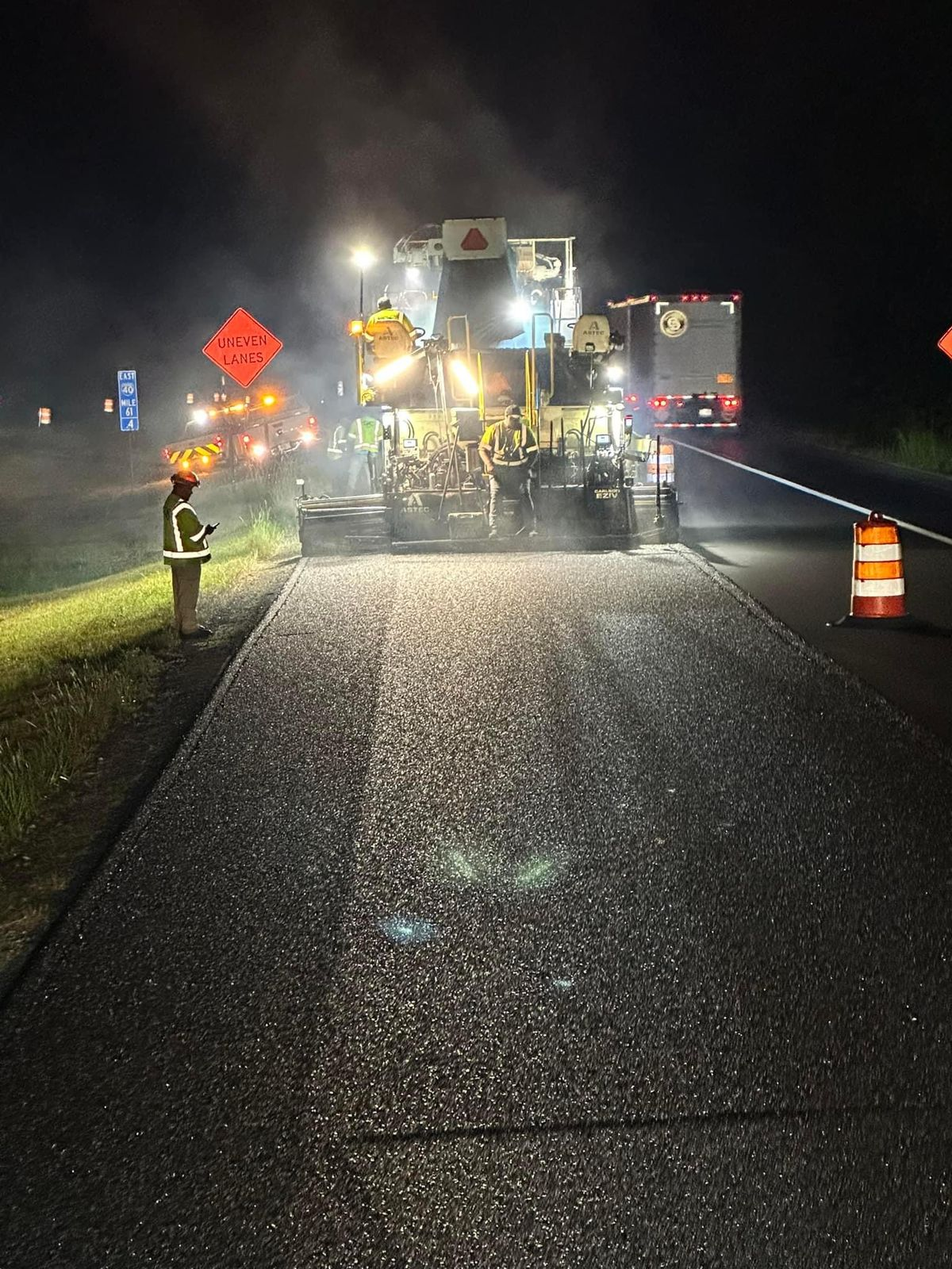person: (118, 433, 261, 645), (473, 387, 567, 564)
safety_cone: (789, 440, 913, 643)
safety_vest: (164, 497, 204, 573)
